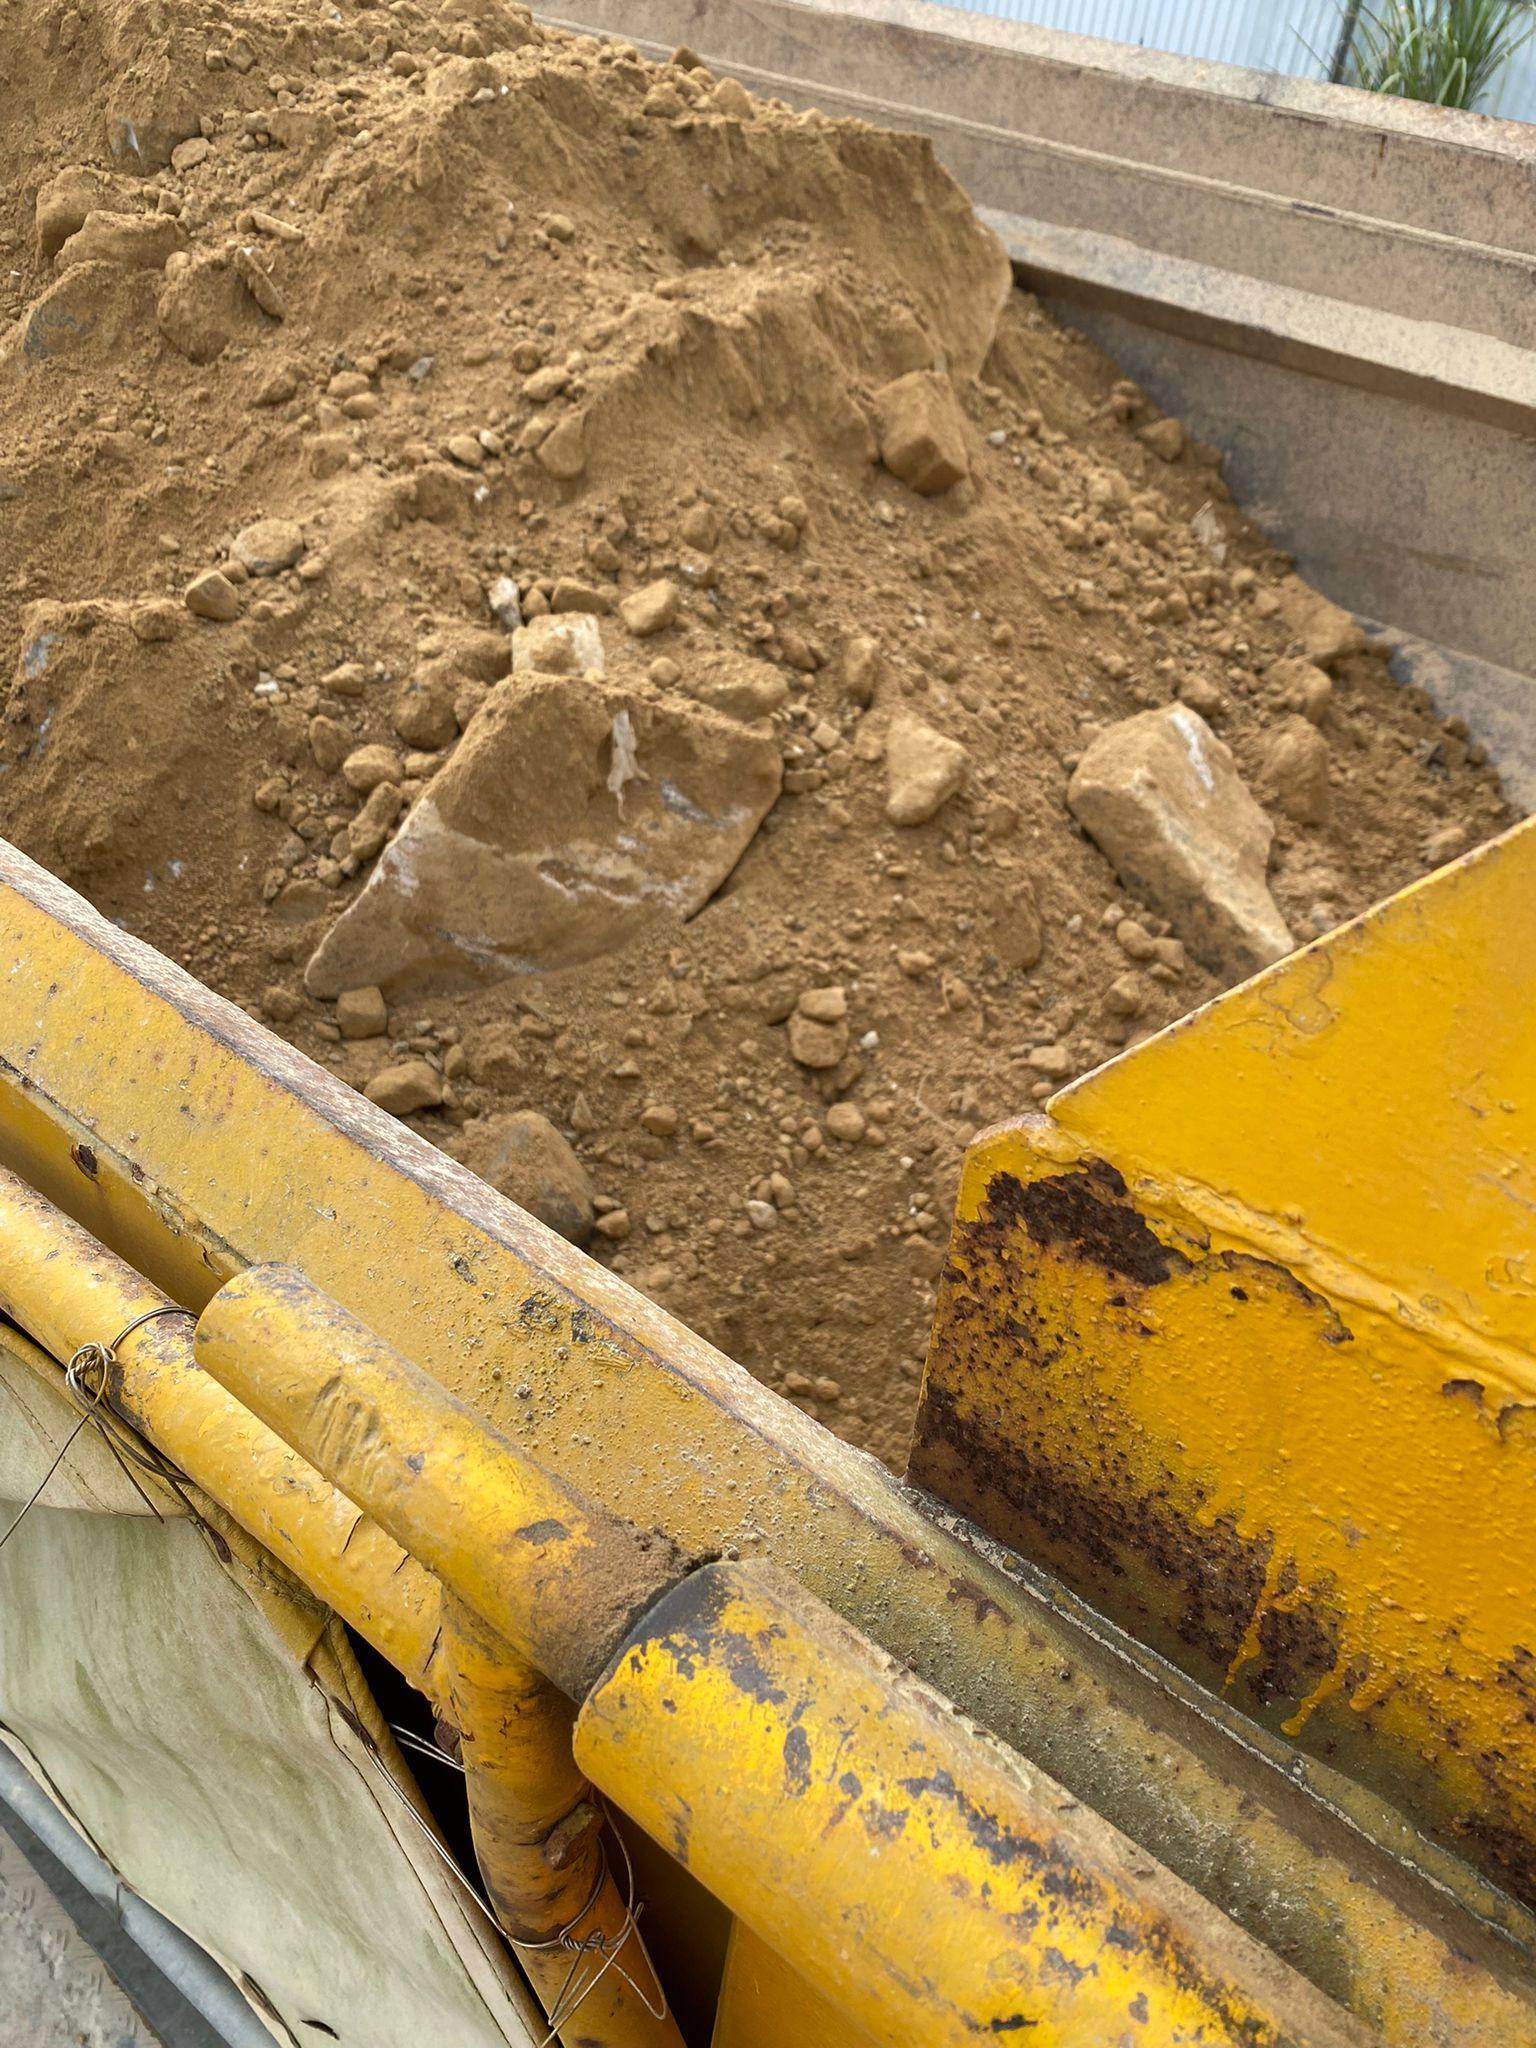dry: (0, 3, 1530, 1471)
